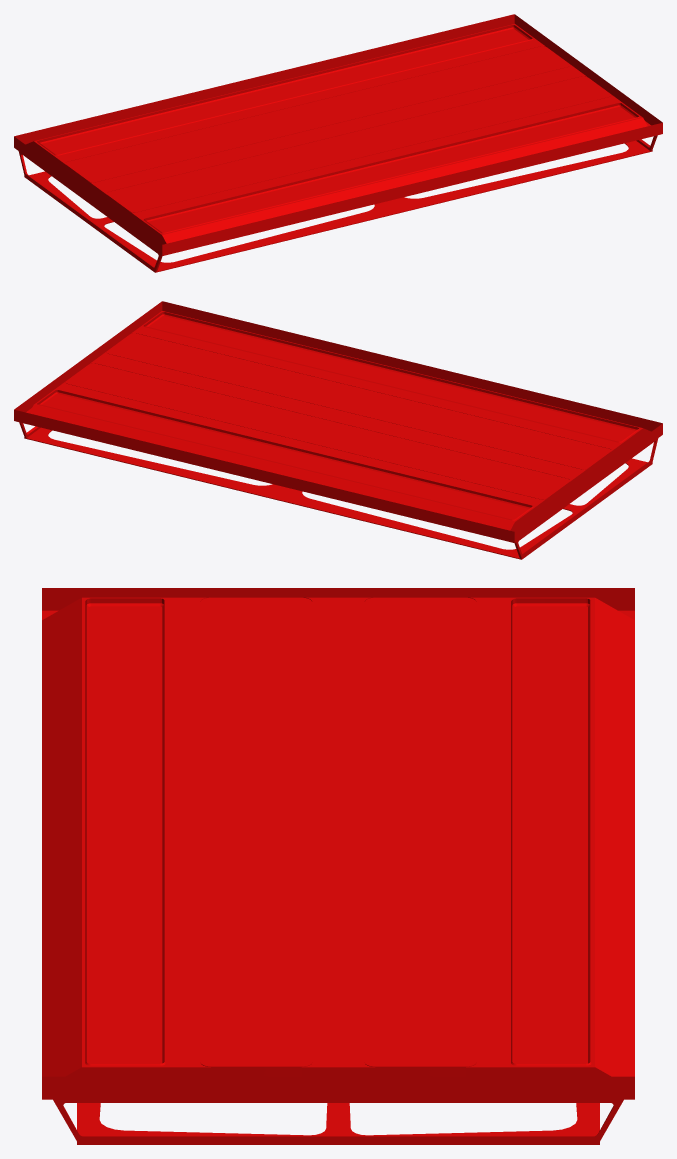
File: Ceiling_8.fbx
The picture shows the model from 3 angles, top to bottom: view 1: azimuth 30°, elevation 25°; view 2: azimuth 150°, elevation 25°; view 3: azimuth 270°, elevation 25°; orthographic projection. The views are drawn at different scales.
Visible parts, largest first — view 1: L:polySurface2215; view 2: L:polySurface2215; view 3: L:polySurface2215.
Boxes of the visible parts, bbox=[...] form: L:polySurface2215: bbox=[14, 14, 662, 272]; L:polySurface2215: bbox=[14, 301, 662, 559]; L:polySurface2215: bbox=[42, 588, 634, 1144].
Bounding box in the file's own units: 604 × 41 × 310.
